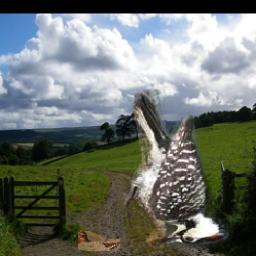Swallow: (79, 230, 121, 251)
Woodpecker: (115, 90, 236, 249)
